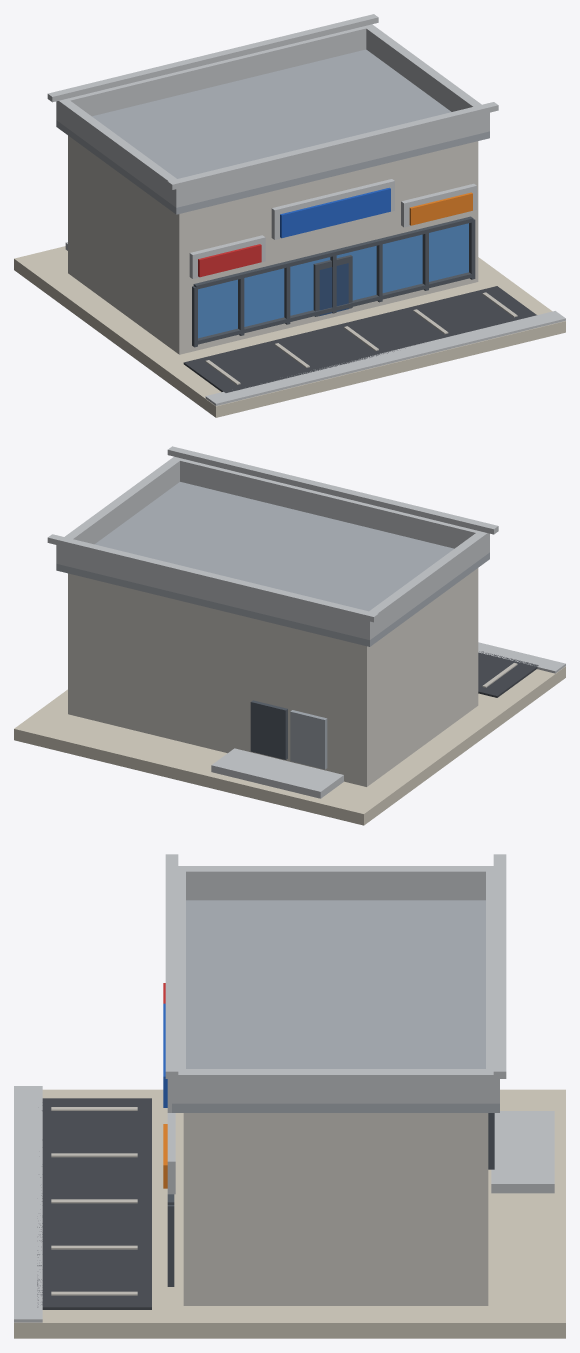
3 views of the same model, one above another, from view 1: azimuth 30°, elevation 25°; view 2: azimuth 150°, elevation 25°; view 3: azimuth 270°, elevation 25° (orthographic). The views are drawn at different scales.
Parts seen in each view (by area): view 1: b19_v2_lod1; view 2: b19_v2_lod1; view 3: b19_v2_lod1.
Boxes of the visible parts, <box> form: b19_v2_lod1: <box>14,14,565,417</box>; b19_v2_lod1: <box>14,446,565,825</box>; b19_v2_lod1: <box>14,854,565,1338</box>.
Bounding box in the file's own units: 0.96 × 0.497 × 0.96.
